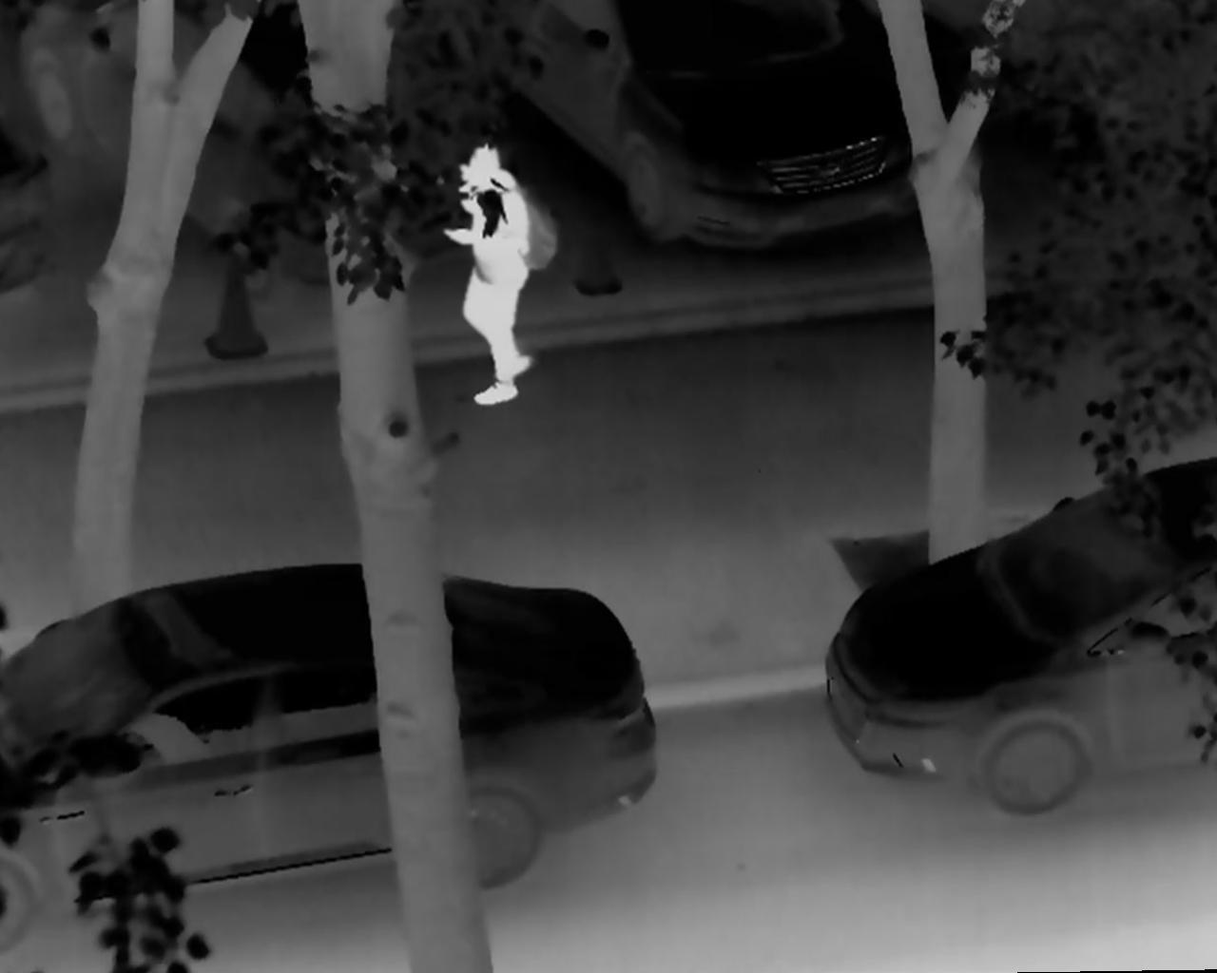person: (437, 134, 541, 411)
